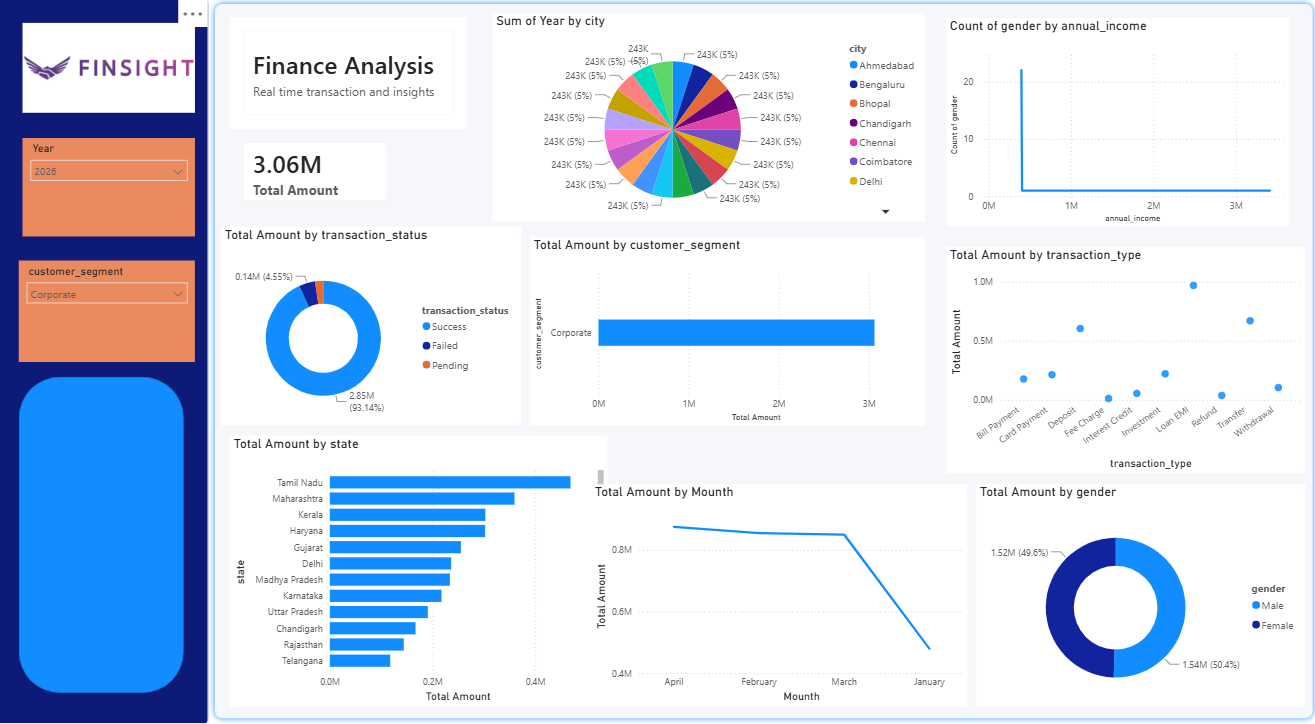

What the dashboard file says about the page in this screenshot:
{"tool":"powerbi","page":{"name":"Page 1","canvas":[1800,950],"ordinal":0},"visuals":[{"type":"shape","box":[22.9,0,276.3,950],"z":0},{"type":"shape","box":[299.2,0,1452,950],"z":1000},{"type":"image","box":[55.6,26.2,225.7,130.8],"z":2000},{"type":"cardVisual","fields":{"Data":["customers.Dashboard Title"]},"box":[327.6,25.3,310.7,146.9],"z":3000},{"type":"cardVisual","fields":{"Data":["customers.Total Amount"]},"box":[327,171.7,222.4,111.2],"z":3001},{"type":"slicer","fields":{"Values":["Calendar Table.Year"]},"box":[55.6,183.1,225.7,129.2],"z":3002},{"type":"pieChart","fields":{"Category":["customers.city"],"Y":["Sum(Calendar Table.Year)"]},"box":[670.4,19.6,565.8,273.1],"z":3003},{"type":"lineChart","fields":{"Category":["customers.annual_income"],"Y":["CountNonNull(customers.gender)"]},"box":[1264,26.2,448,273.1],"z":3004},{"type":"donutChart","fields":{"Category":["customers.gender"],"Y":["customers.Total Amount"]},"box":[1303.2,636.1,430.1,291.1],"z":3005},{"type":"donutChart","fields":{"Y":["customers.Total Amount"],"Category":["finance_transactions.transaction_status"]},"box":[315.6,299.2,392.4,260],"z":3006},{"type":"barChart","fields":{"Y":["customers.Total Amount"],"Category":["customers.state"]},"box":[327,572.3,493.8,354.8],"z":3007},{"type":"barChart","fields":{"Y":["customers.Total Amount"],"Category":["customers.customer_segment"]},"box":[719.5,312.3,516.7,246.9],"z":3008},{"type":"lineChart","fields":{"Y":["customers.Total Amount"],"Category":["Calendar Table.Mounth"]},"box":[799.6,636.1,492.2,291.1],"z":3009},{"type":"scatterChart","fields":{"Y":["customers.Total Amount"],"X":["finance_transactions.transaction_type"]},"box":[1264,325.4,469.3,296],"z":3010},{"type":"shape","box":[50.7,495.5,215.8,413.7],"z":3011},{"type":"slicer","fields":{"Values":["customers.customer_segment"]},"box":[50.7,343.4,230.6,132.4],"z":3012}]}

Visuals, with their boxes on the page's 1800x950 design canvas (x1, y1, x2, y2). These are canvas units, not pixel positions in the 1315x724 screenshot, which may show the page scaled, cropped or inside an application window:
shape: box(23, 0, 299, 950)
shape: box(299, 0, 1751, 950)
image: box(56, 26, 281, 157)
cardVisual - customers.Dashboard Title: box(328, 25, 638, 172)
cardVisual - customers.Total Amount: box(327, 172, 549, 283)
slicer - Calendar Table.Year: box(56, 183, 281, 312)
pieChart - customers.city x Sum(Calendar Table.Year): box(670, 20, 1236, 293)
lineChart - customers.annual_income x CountNonNull(customers.gender): box(1264, 26, 1712, 299)
donutChart - customers.gender x customers.Total Amount: box(1303, 636, 1733, 927)
donutChart - customers.Total Amount x finance_transactions.transaction_status: box(316, 299, 708, 559)
barChart - customers.Total Amount x customers.state: box(327, 572, 821, 927)
barChart - customers.Total Amount x customers.customer_segment: box(720, 312, 1236, 559)
lineChart - customers.Total Amount x Calendar Table.Mounth: box(800, 636, 1292, 927)
scatterChart - customers.Total Amount x finance_transactions.transaction_type: box(1264, 325, 1733, 621)
shape: box(51, 496, 266, 909)
slicer - customers.customer_segment: box(51, 343, 281, 476)
